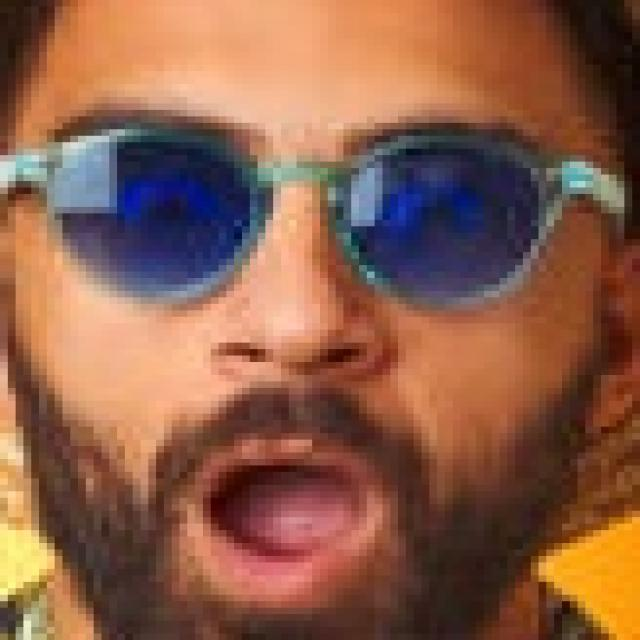Anxiety: (8, 0, 628, 634)
